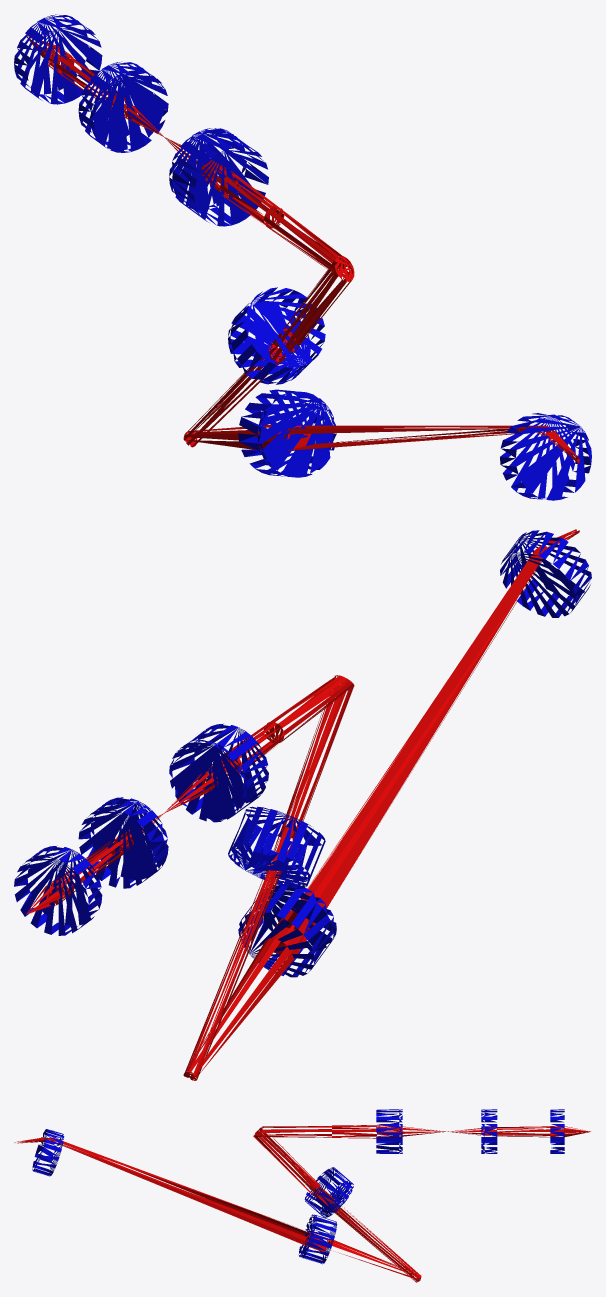
Rendered from Full_Assembly.glb.
3 views of the same model, one above another, from view 1: azimuth 30°, elevation 25°; view 2: azimuth 150°, elevation 25°; view 3: azimuth 270°, elevation 25° (orthographic). The views are drawn at different scales.
Parts seen in each view (by area): view 1: geometry_9, geometry_5, geometry_0, geometry_4, geometry_8, geometry_2, geometry_29, geometry_1, geometry_7, geometry_21, geometry_3, geometry_20 (+5 smaller); view 2: geometry_29, geometry_0, geometry_1, geometry_9, geometry_7, geometry_3, geometry_5, geometry_24, geometry_4, geometry_26, geometry_21, geometry_6 (+4 smaller); view 3: geometry_29, geometry_5, geometry_21, geometry_24, geometry_9, geometry_7, geometry_4, geometry_20, geometry_26, geometry_19, geometry_0, geometry_12 (+3 smaller).
Boxes of the visible parts, left/top/right/bottom form: geometry_9: left=500, top=413, right=591, bottom=500; geometry_5: left=230, top=287, right=325, bottom=382; geometry_0: left=14, top=14, right=102, bottom=104; geometry_4: left=172, top=130, right=268, bottom=226; geometry_8: left=257, top=391, right=336, bottom=477; geometry_2: left=90, top=70, right=168, bottom=152; geometry_29: left=287, top=425, right=545, bottom=450; geometry_1: left=78, top=61, right=164, bottom=145; geometry_7: left=238, top=389, right=333, bottom=476; geometry_21: left=281, top=256, right=353, bottom=351; geometry_3: left=169, top=128, right=246, bottom=210; geometry_20: left=264, top=206, right=354, bottom=281; geometry_29: left=290, top=549, right=543, bottom=926; geometry_0: left=14, top=845, right=102, bottom=935; geometry_1: left=78, top=800, right=164, bottom=888; geometry_9: left=500, top=530, right=591, bottom=617; geometry_7: left=238, top=885, right=333, bottom=977; geometry_3: left=169, top=740, right=246, bottom=822; geometry_5: left=231, top=806, right=325, bottom=881; geometry_24: left=185, top=870, right=279, bottom=1080; geometry_4: left=174, top=723, right=268, bottom=819; geometry_26: left=185, top=938, right=294, bottom=1076; geometry_21: left=282, top=675, right=354, bottom=839; geometry_6: left=228, top=843, right=310, bottom=888; geometry_29: left=53, top=1137, right=306, bottom=1244; geometry_5: left=304, top=1167, right=351, bottom=1215; geometry_21: left=254, top=1126, right=319, bottom=1193; geometry_24: left=333, top=1205, right=420, bottom=1282; geometry_9: left=32, top=1129, right=64, bottom=1176; geometry_7: left=302, top=1215, right=337, bottom=1264; geometry_4: left=376, top=1109, right=399, bottom=1153; geometry_20: left=253, top=1126, right=331, bottom=1137; geometry_26: left=327, top=1238, right=420, bottom=1280; geometry_19: left=332, top=1125, right=376, bottom=1138; geometry_0: left=550, top=1109, right=564, bottom=1153; geometry_12: left=497, top=1126, right=550, bottom=1137.
Bounding box in the file's own units: 25.4 × 106 × 326.
